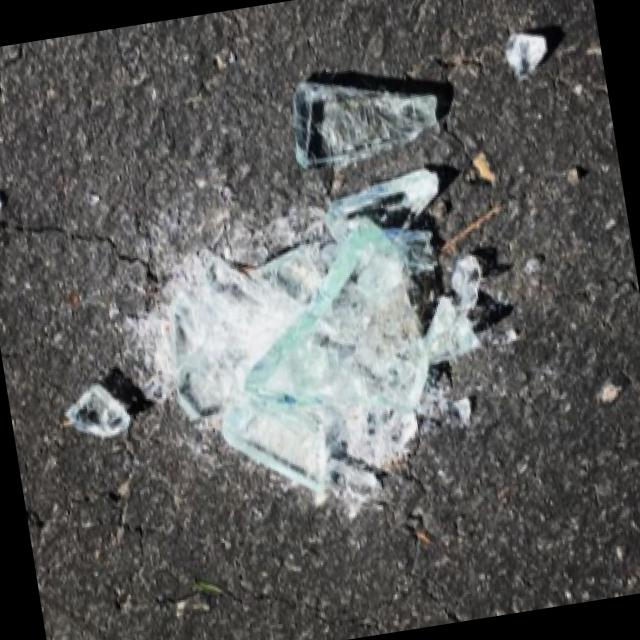PecahanKaca: (131, 160, 520, 548), (56, 378, 134, 447)
